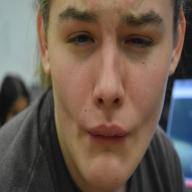cone: (93, 32, 125, 108)
